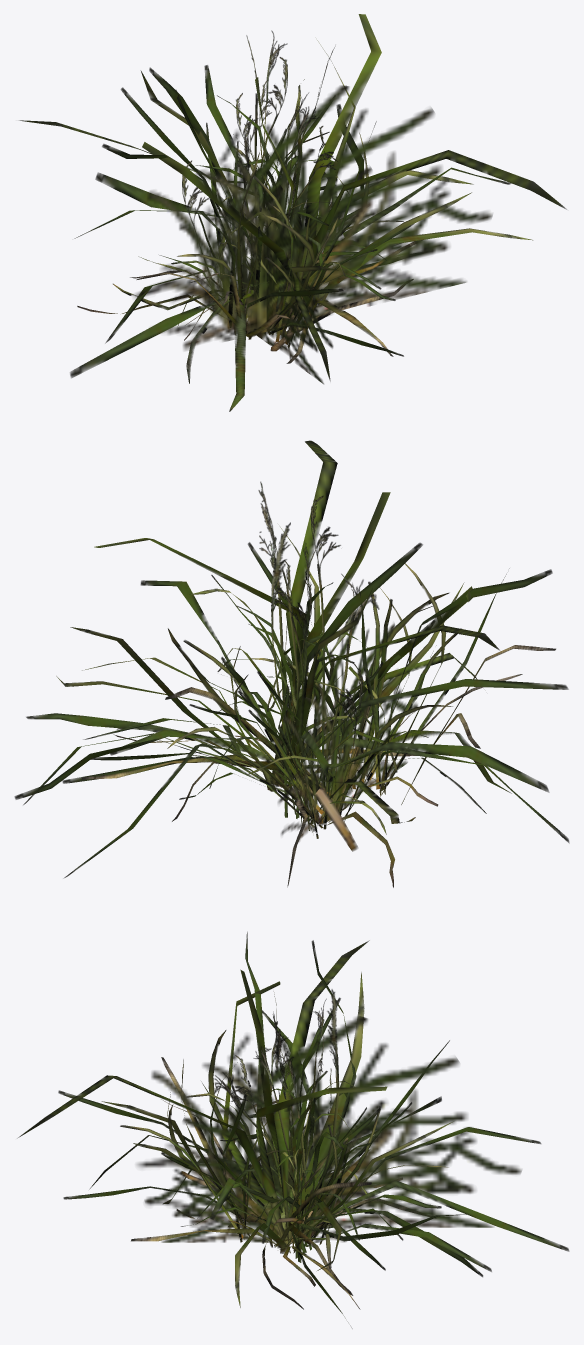
The model's file is grass_tufts.glb.
3 renders of one model, top to bottom at view 1: azimuth 30°, elevation 25°; view 2: azimuth 150°, elevation 25°; view 3: azimuth 270°, elevation 25°, orthographic. The views are drawn at different scales.
Visible parts, largest first — view 1: tuft_mid_c2, tuft_small_b2, tuft_mid_b2, tuft_tall_c1, tuft_tall_b1, tuft_tall_a1; view 2: tuft_small_b2, tuft_mid_c2, tuft_mid_b2, tuft_tall_c1, tuft_tall_b1, tuft_tall_a1; view 3: tuft_mid_c2, tuft_small_b2, tuft_mid_b2, tuft_tall_c1, tuft_tall_b1, tuft_tall_a1.
Boxes of the visible parts, left/top/right/bottom form: tuft_mid_c2: left=102, top=67, right=492, bottom=356; tuft_small_b2: left=19, top=14, right=566, bottom=411; tuft_mid_b2: left=77, top=57, right=410, bottom=384; tuft_tall_c1: left=178, top=35, right=386, bottom=325; tuft_tall_b1: left=217, top=46, right=347, bottom=301; tuft_tall_a1: left=195, top=30, right=334, bottom=230; tuft_small_b2: left=23, top=440, right=569, bottom=887; tuft_mid_c2: left=14, top=542, right=555, bottom=822; tuft_mid_b2: left=117, top=495, right=452, bottom=887; tuft_tall_c1: left=217, top=522, right=397, bottom=834; tuft_tall_b1: left=190, top=481, right=386, bottom=817; tuft_tall_a1: left=209, top=513, right=354, bottom=818; tuft_mid_c2: left=58, top=932, right=521, bottom=1328; tuft_small_b2: left=17, top=940, right=569, bottom=1309; tuft_mid_b2: left=144, top=991, right=441, bottom=1268; tuft_tall_c1: left=214, top=989, right=369, bottom=1252; tuft_tall_b1: left=224, top=1016, right=354, bottom=1262; tuft_tall_a1: left=220, top=998, right=362, bottom=1258.
Bounding box in the file's own units: 1.66 × 1 × 1.9.
1 material, 1 textured.
